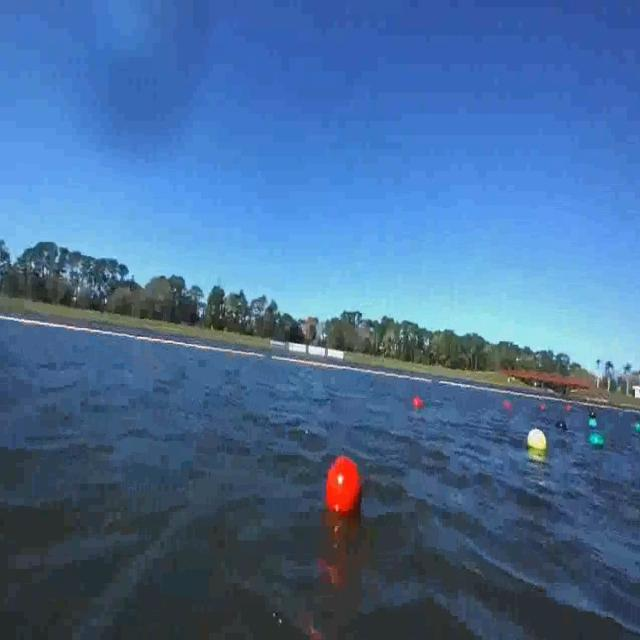black-buoy: (557, 421, 568, 431)
green-buoy: (588, 434, 602, 448), (635, 424, 640, 434)
red-buoy: (326, 455, 364, 520), (413, 396, 424, 408)
yellow-buoy: (530, 428, 550, 452)
